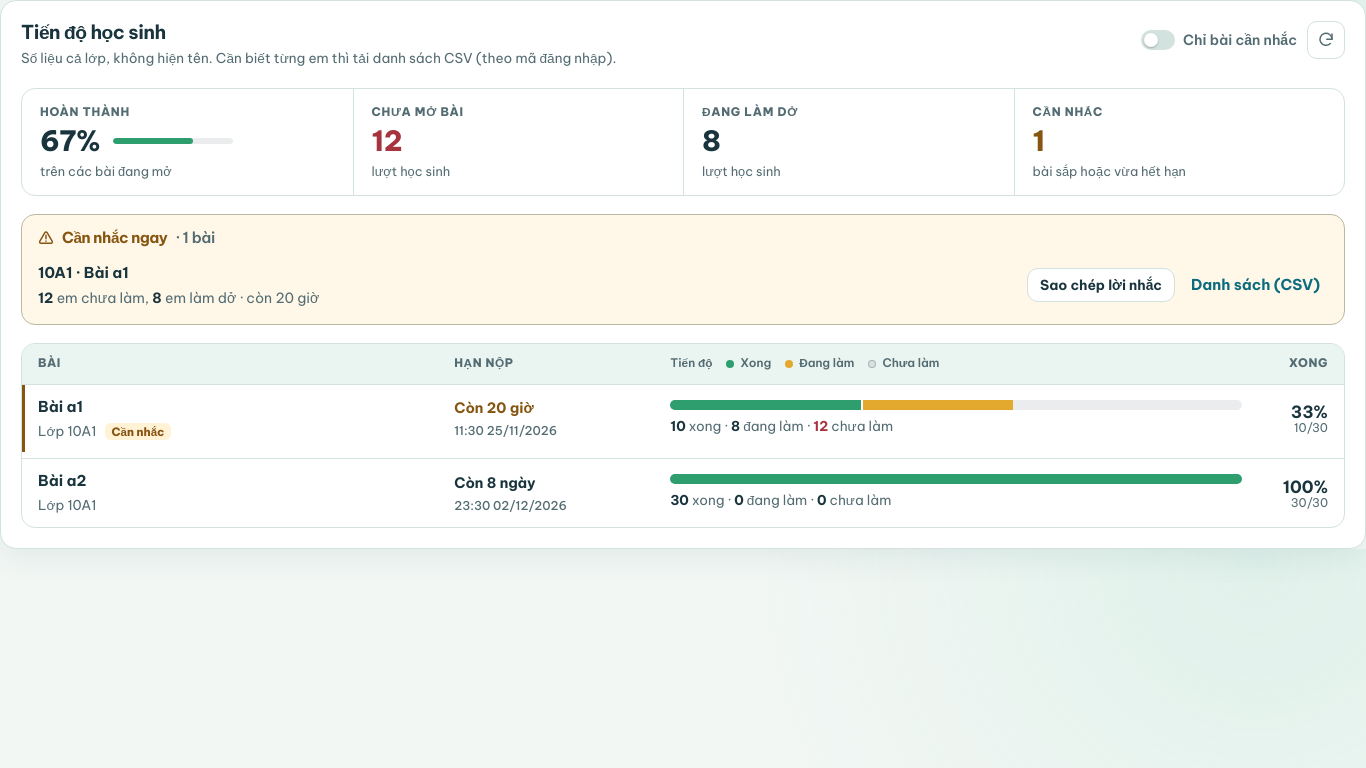
Scenario: board › shows the totals, a bar per assignment, and the reminder list
Expected: the picture named "Bài a1, lớp 10A1: 10 em đã xong, 8 em đang làm, 12 em chưa làm, trên 30 em" is shown, [670, 400, 1242, 410]
Expected: the text "10A1 · Bài a1" is shown, [38, 263, 129, 282]
Step 1. Click the checkbox labelled "Chỉ bài cần nhắc" → click(1219, 40), box [1141, 30, 1297, 50]
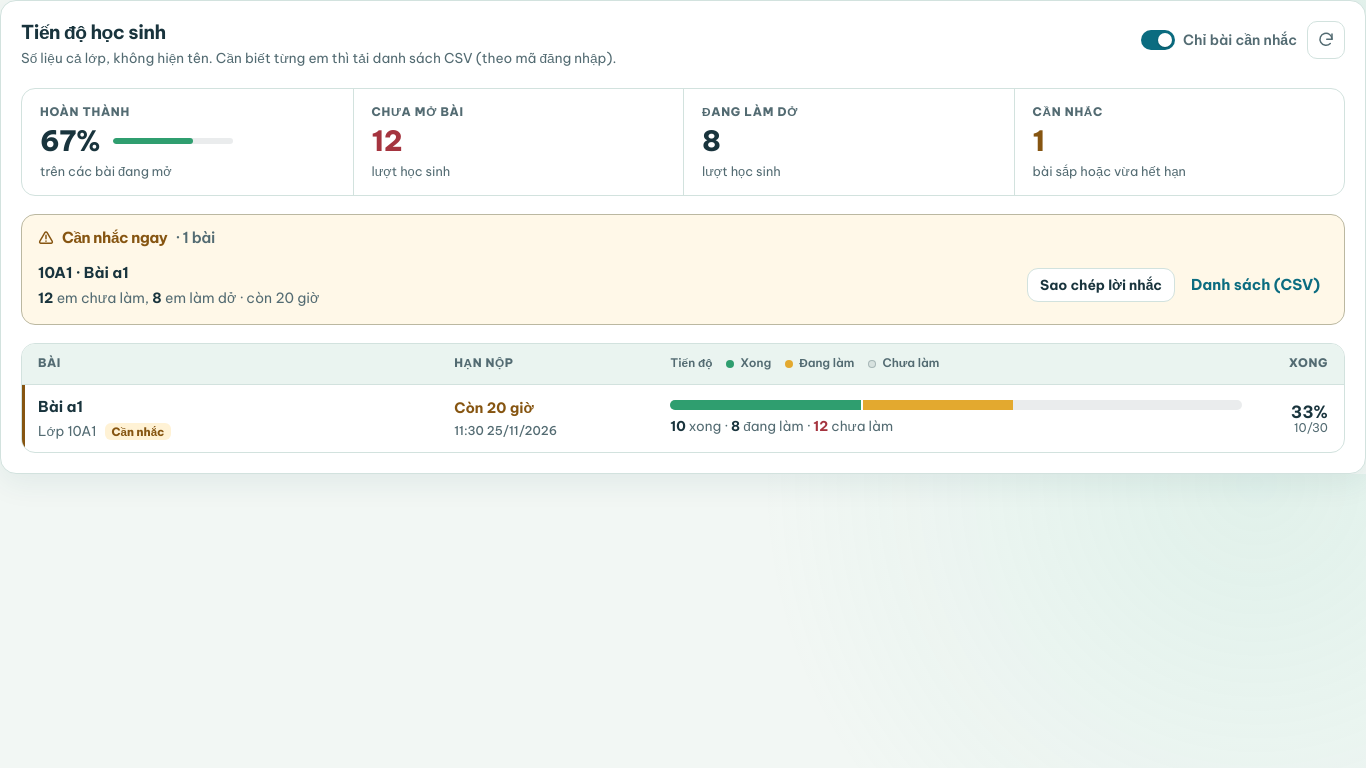
Expected: the link "Bài a2" is gone
